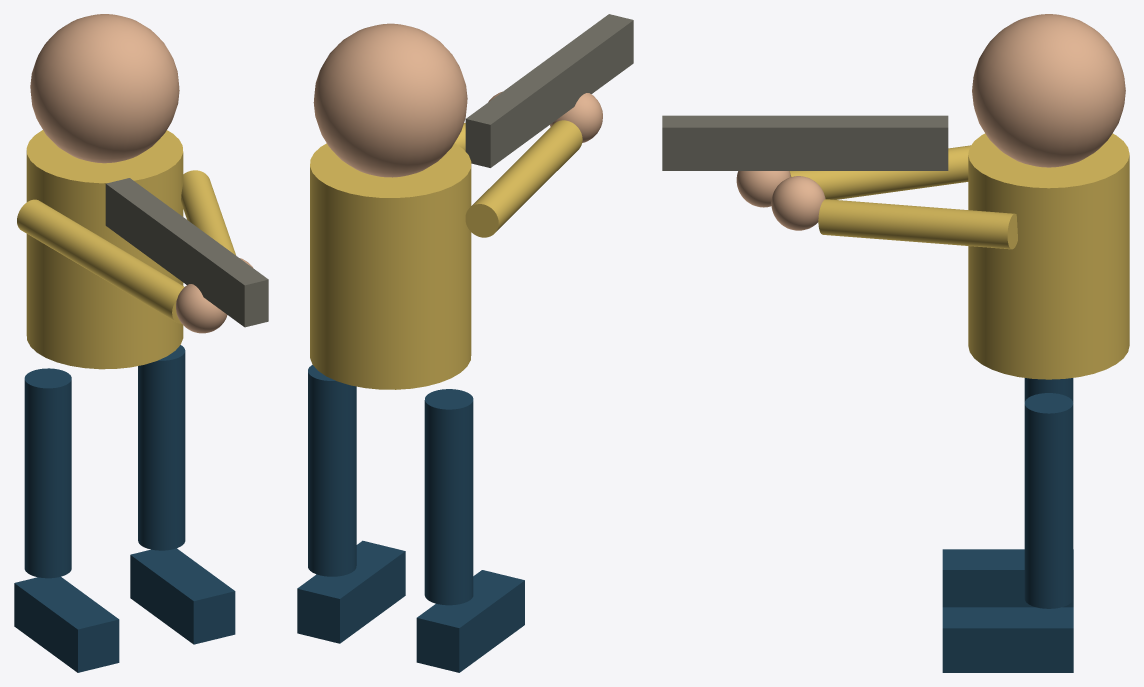
File: SM_Char01.glb
The picture shows the model from 3 angles, left to right: view 1: azimuth 30°, elevation 25°; view 2: azimuth 150°, elevation 25°; view 3: azimuth 270°, elevation 25°; orthographic projection. The views are drawn at different scales.
Visible parts, largest first — view 1: Cube, Cylinder.001, Cylinder.005, Cube.001, Cylinder.004; view 2: Cylinder.001, Cube, Cylinder.005, Cube.001, Cylinder.004; view 3: Cylinder.001, Cube, Cylinder.005, Cube.001, Cylinder.004.
Part boxes in pixels (bbox=[...]): Cube: bbox=[14, 345, 235, 672]; Cylinder.001: bbox=[26, 130, 183, 369]; Cylinder.005: bbox=[30, 14, 252, 333]; Cube.001: bbox=[105, 178, 268, 327]; Cylinder.004: bbox=[17, 170, 235, 323]; Cylinder.001: bbox=[310, 143, 471, 389]; Cube: bbox=[297, 365, 524, 672]; Cylinder.005: bbox=[313, 23, 602, 177]; Cube.001: bbox=[465, 14, 633, 167]; Cylinder.004: bbox=[454, 120, 582, 237]; Cylinder.001: bbox=[968, 133, 1129, 379]; Cube: bbox=[942, 378, 1073, 672]; Cylinder.005: bbox=[736, 14, 1125, 230]; Cube.001: bbox=[662, 115, 948, 170]; Cylinder.004: bbox=[789, 145, 1017, 249].
Size of the model in its own units: 0.5415 by 1.69 by 1.17.
